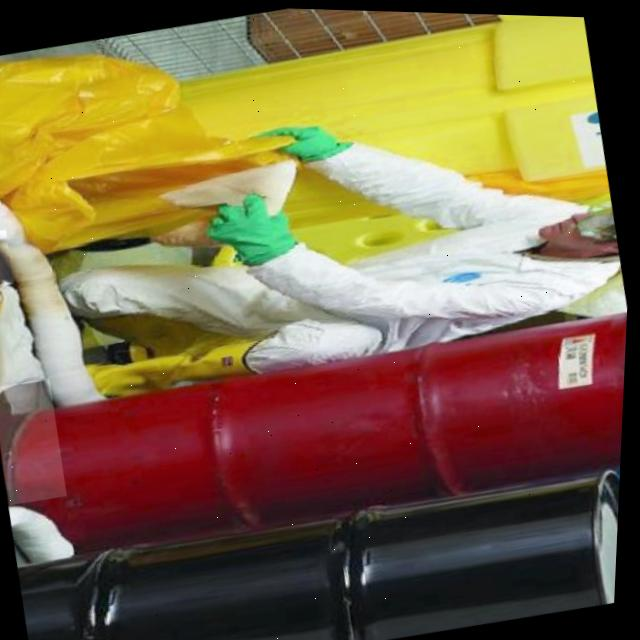spillage: (0, 381, 56, 505), (0, 258, 15, 285)
